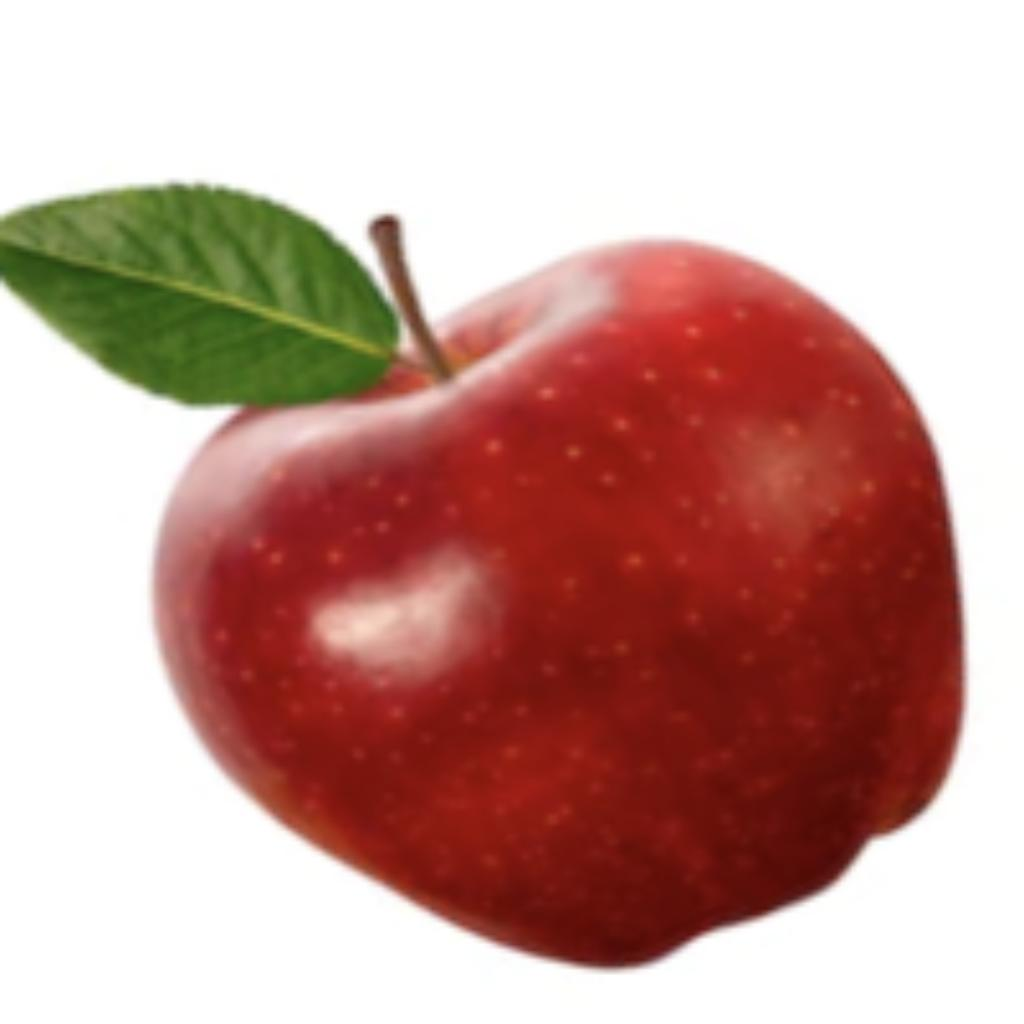apple: (0, 174, 973, 973)
